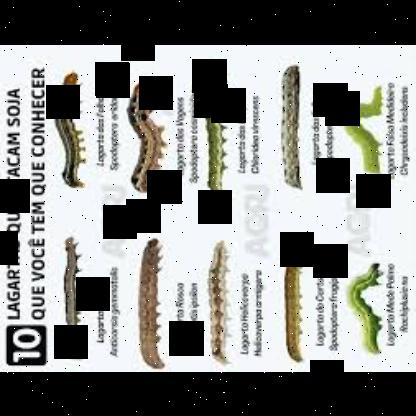oruga: (128, 233, 172, 366), (127, 76, 168, 197), (340, 78, 386, 182), (345, 254, 389, 356), (203, 61, 235, 200), (55, 66, 87, 198), (54, 237, 86, 363), (282, 238, 312, 371), (277, 61, 306, 194), (206, 236, 233, 367)
